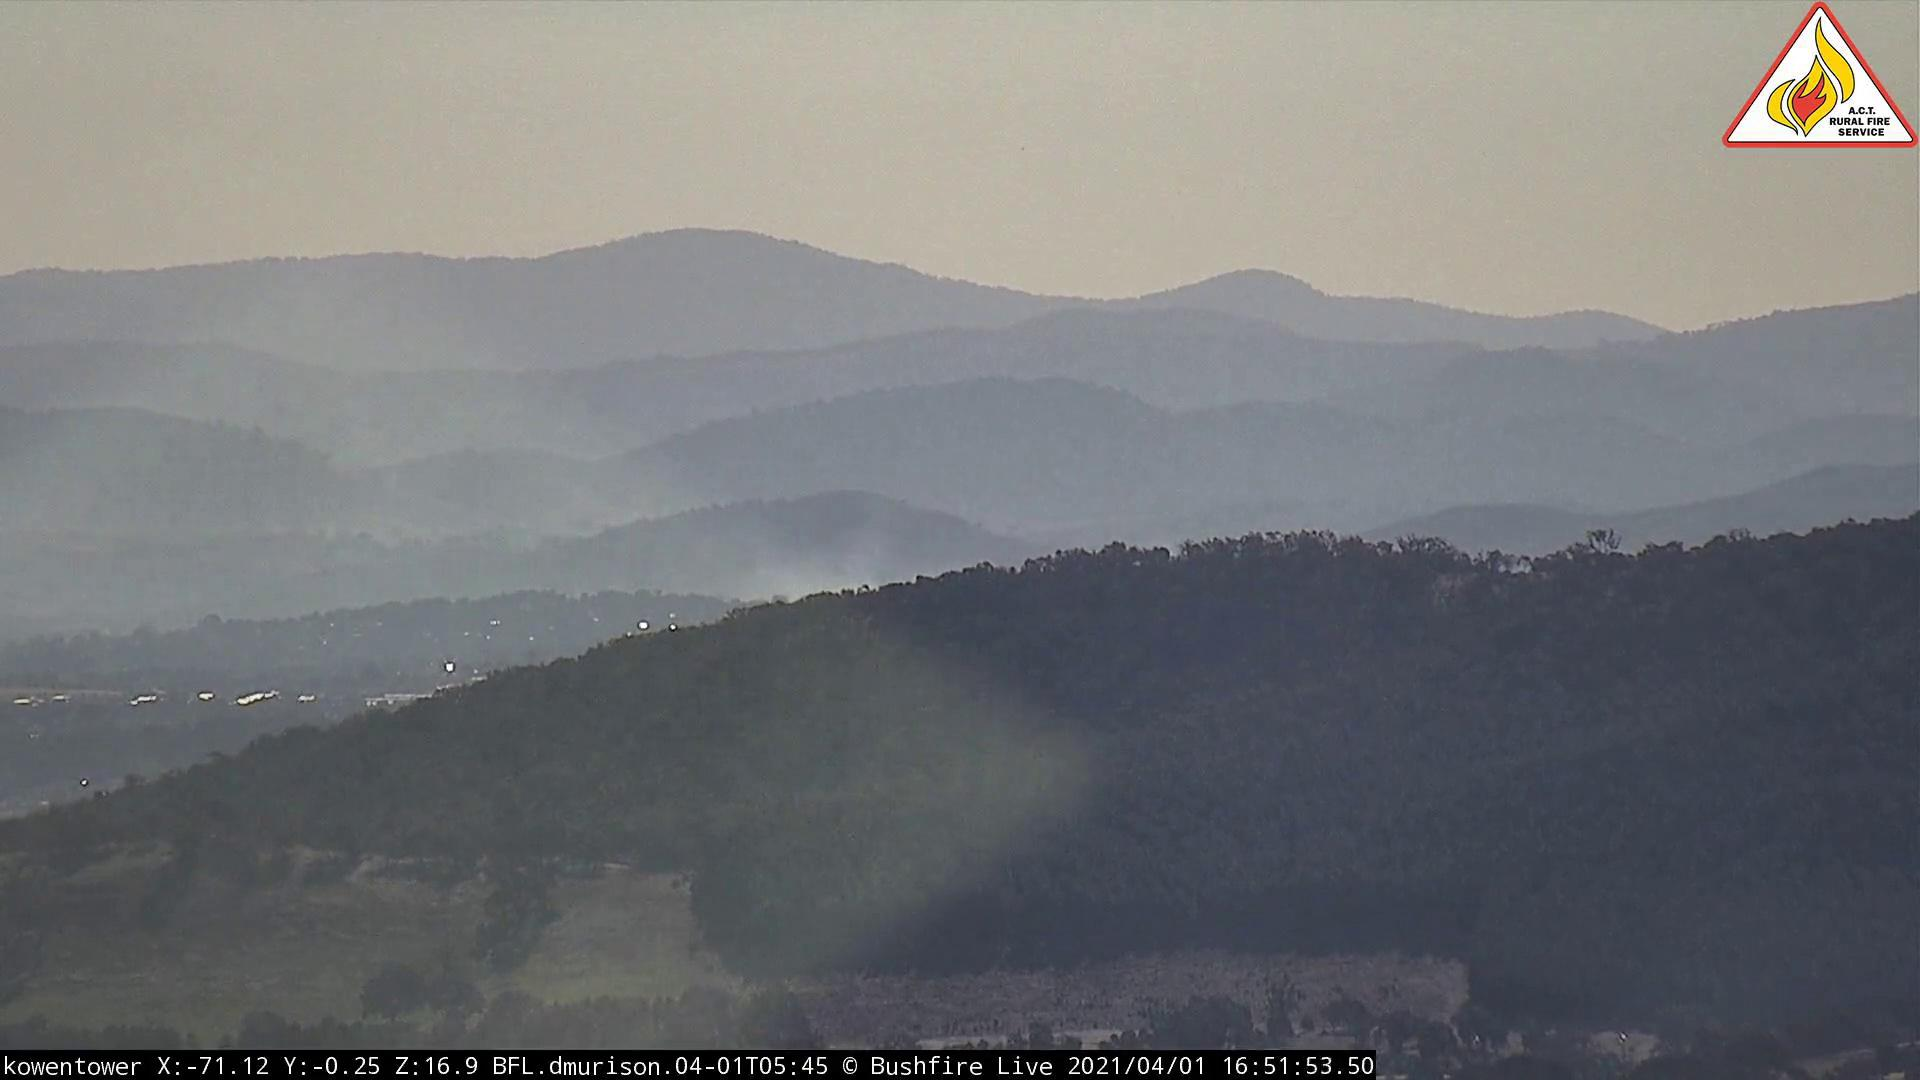Smoke: (713, 504, 951, 638)
